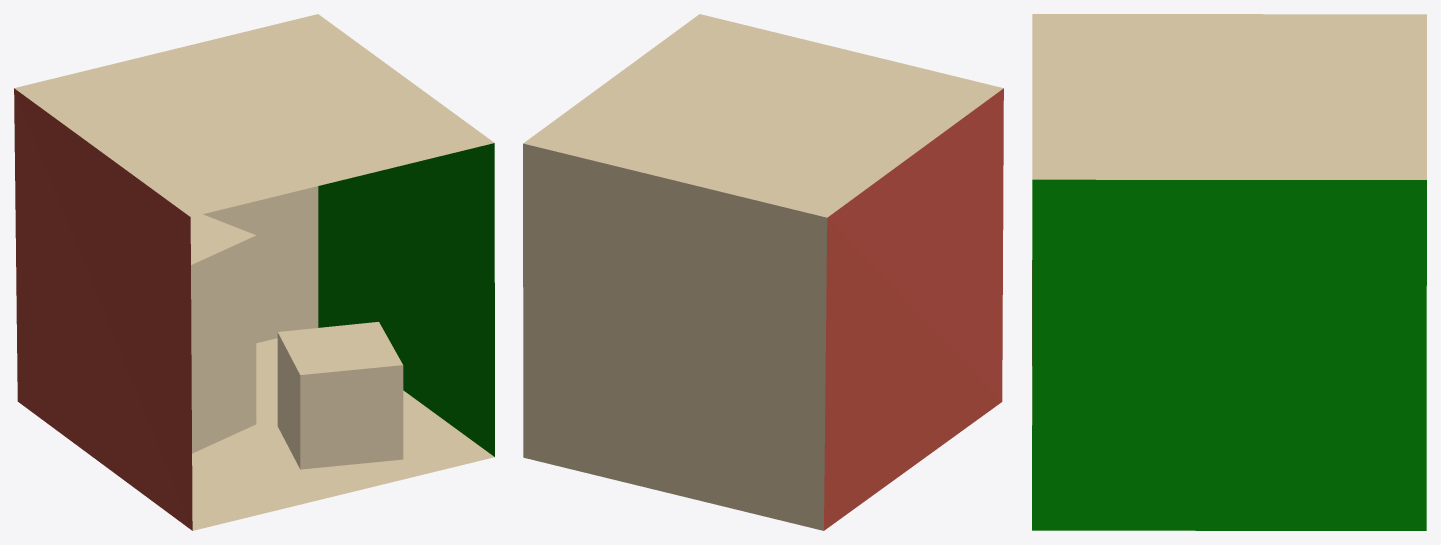
File: cornell-box-cycles.dae
3 renders of one model, left to right at view 1: azimuth 30°, elevation 25°; view 2: azimuth 150°, elevation 25°; view 3: azimuth 270°, elevation 25°, orthographic. The views are drawn at different scales.
Parts seen in each view (by area): view 1: left_wall, ceiling, right_wall, floor, short_box, tall_box, back_wall; view 2: back_wall, left_wall, ceiling; view 3: right_wall, ceiling.
Boxes of the visible parts, left/top/right/bottom form: left_wall: left=14, top=88, right=192, bottom=530; ceiling: left=14, top=14, right=494, bottom=216; right_wall: left=318, top=143, right=494, bottom=456; floor: left=192, top=338, right=494, bottom=530; short_box: left=277, top=322, right=403, bottom=469; tall_box: left=190, top=214, right=256, bottom=453; back_wall: left=203, top=186, right=318, bottom=343; back_wall: left=523, top=143, right=827, bottom=530; left_wall: left=824, top=88, right=1003, bottom=530; ceiling: left=523, top=14, right=1003, bottom=217; right_wall: left=1032, top=179, right=1426, bottom=530; ceiling: left=1032, top=14, right=1426, bottom=179.
Size of the model in its own units: 5.56 by 5.6 by 5.49.
